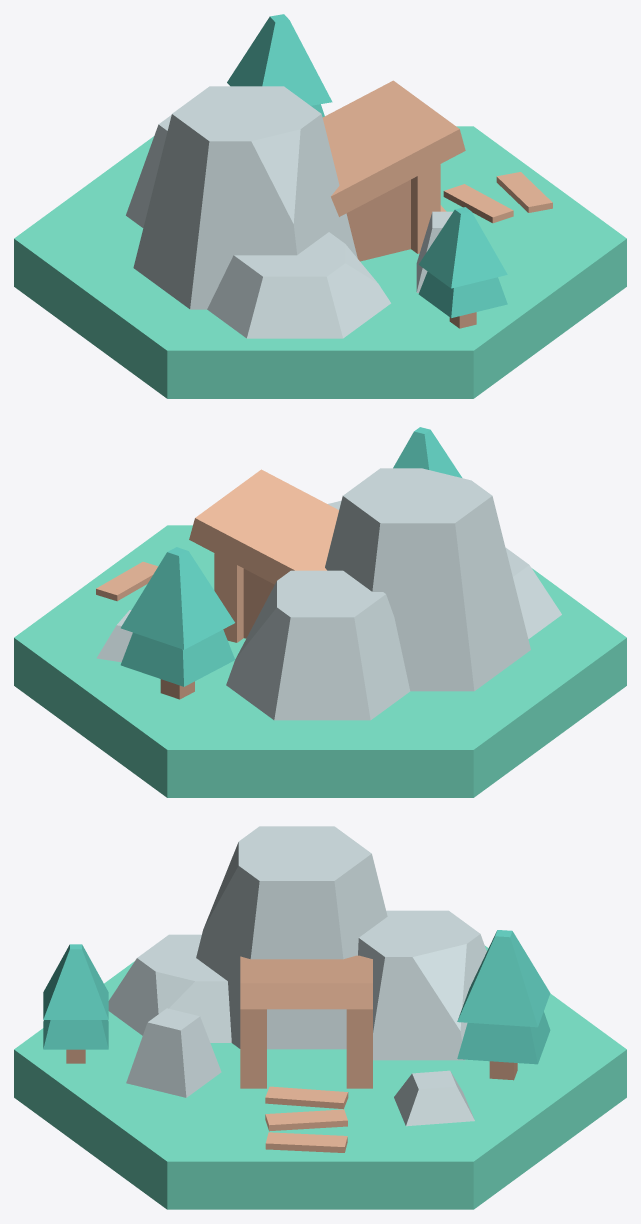
Rendered from Mine.fbx.
3 views of the same model, one above another, from view 1: azimuth 30°, elevation 25°; view 2: azimuth 150°, elevation 25°; view 3: azimuth 270°, elevation 25° (orthographic).
Parts seen in each view (by area): view 1: building_mine; view 2: building_mine; view 3: building_mine.
Part boxes in pixels (x1=…): building_mine: x1=14, y1=14, x2=626, y2=398; building_mine: x1=14, y1=427, x2=626, y2=797; building_mine: x1=14, y1=826, x2=626, y2=1209.
Bounding box in the file's own units: 100 × 42.04 × 115.
